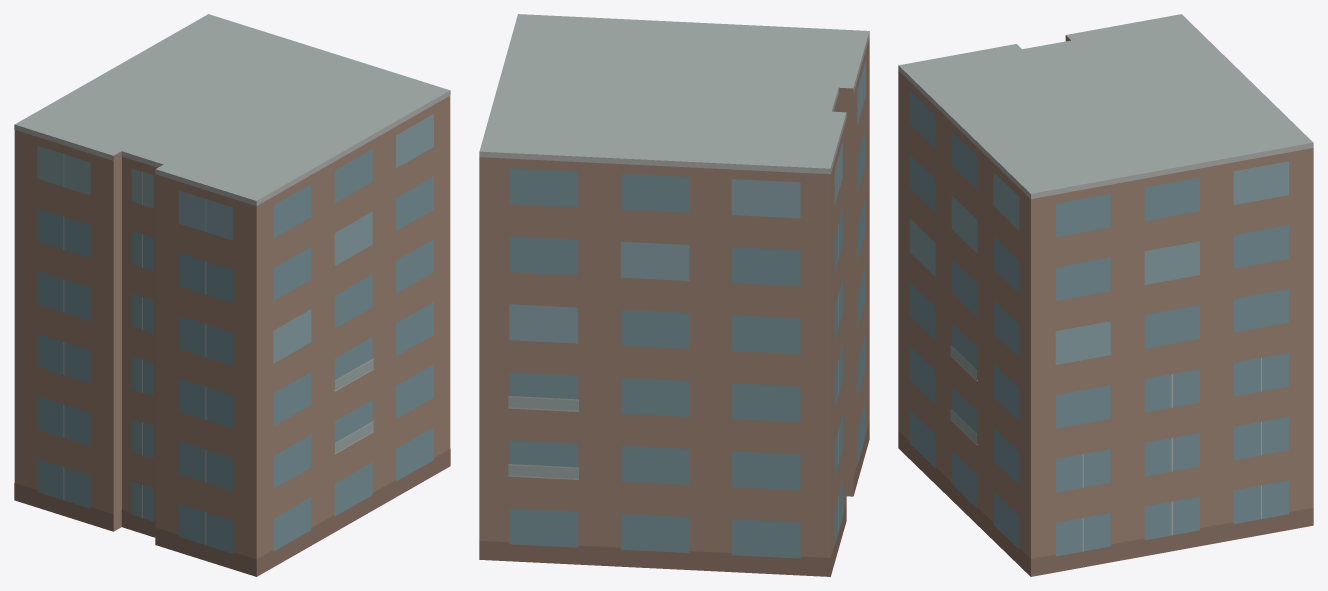
Rendered from survey-upis-32731901.glb.
3 views of the same model, side by side, from view 1: azimuth 30°, elevation 25°; view 2: azimuth 150°, elevation 25°; view 3: azimuth 270°, elevation 25° (orthographic). The views are drawn at different scales.
Parts seen in each view (by area): view 1: survey-upis-32731901.tmp; view 2: survey-upis-32731901.tmp; view 3: survey-upis-32731901.tmp.
Boxes of the visible parts, <box> form: survey-upis-32731901.tmp: <box>14,14,450,576</box>; survey-upis-32731901.tmp: <box>479,14,869,576</box>; survey-upis-32731901.tmp: <box>898,14,1313,576</box>.
Bounding box in the file's own units: 18.05 × 17.9 × 17.6.
